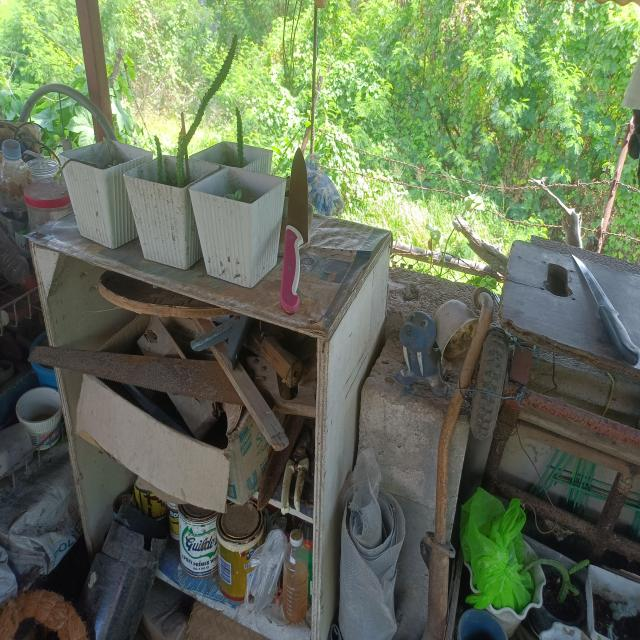knife: (276, 148, 308, 314)
